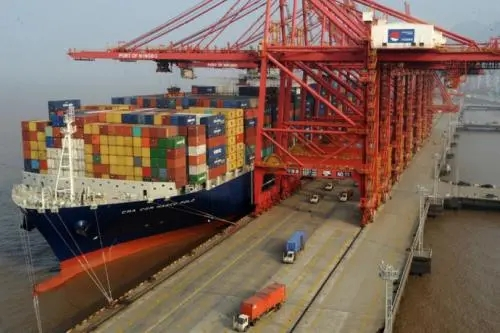Cargoship: (11, 62, 329, 270)
